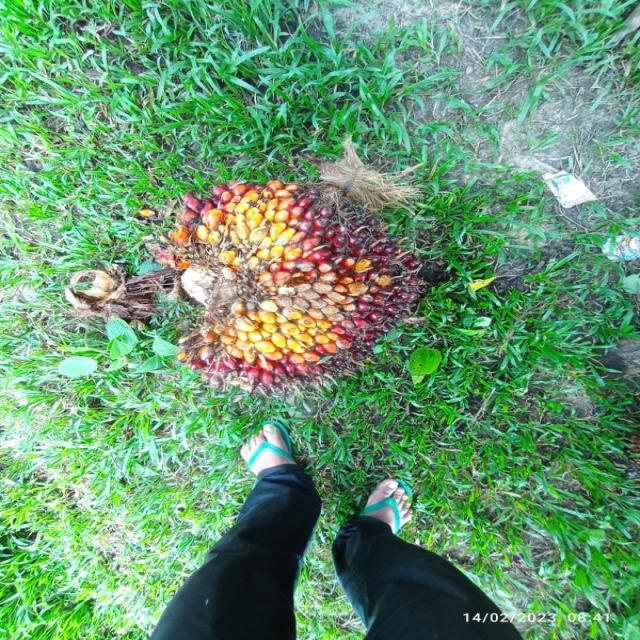fraksi 3: (160, 183, 424, 384)
